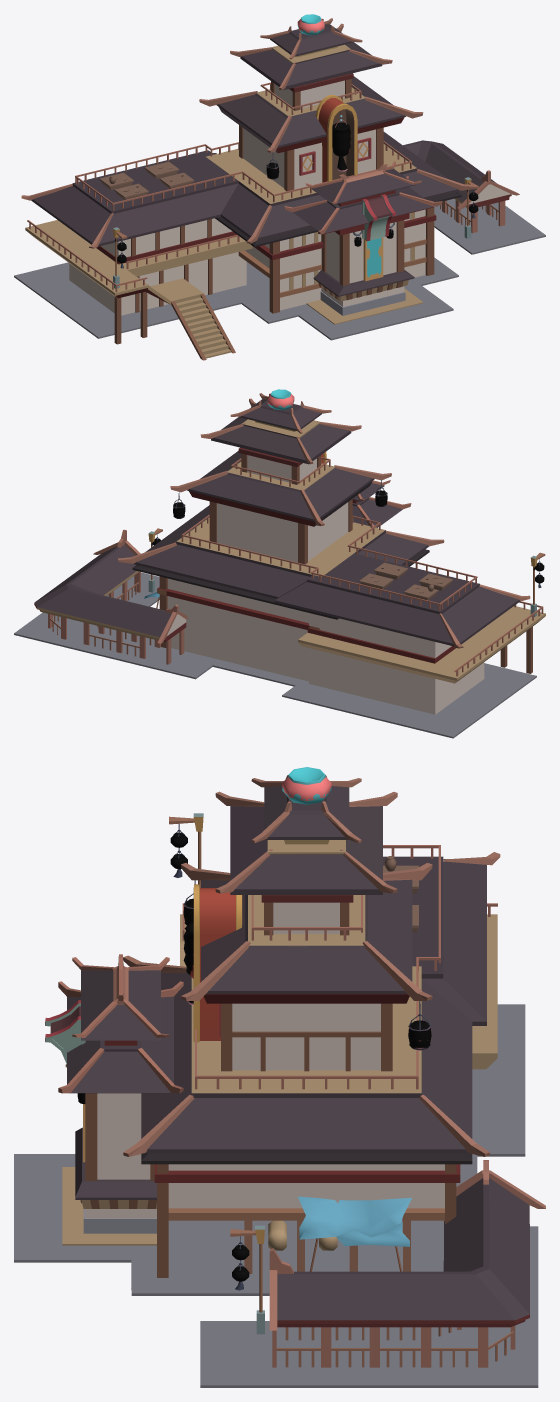
File: jiuguan.FBX
The picture shows the model from 3 angles, top to bottom: view 1: azimuth 30°, elevation 25°; view 2: azimuth 150°, elevation 25°; view 3: azimuth 270°, elevation 25°; orthographic projection. The views are drawn at different scales.
Visible parts, largest first — view 1: objObject016; view 2: objObject016; view 3: objObject016.
Boxes of the visible parts, left/top/right/bottom form: objObject016: left=14, top=14, right=545, bottom=360; objObject016: left=14, top=389, right=545, bottom=738; objObject016: left=14, top=767, right=545, bottom=1387.
Bounding box in the file's own units: 1208 × 652 × 711.
